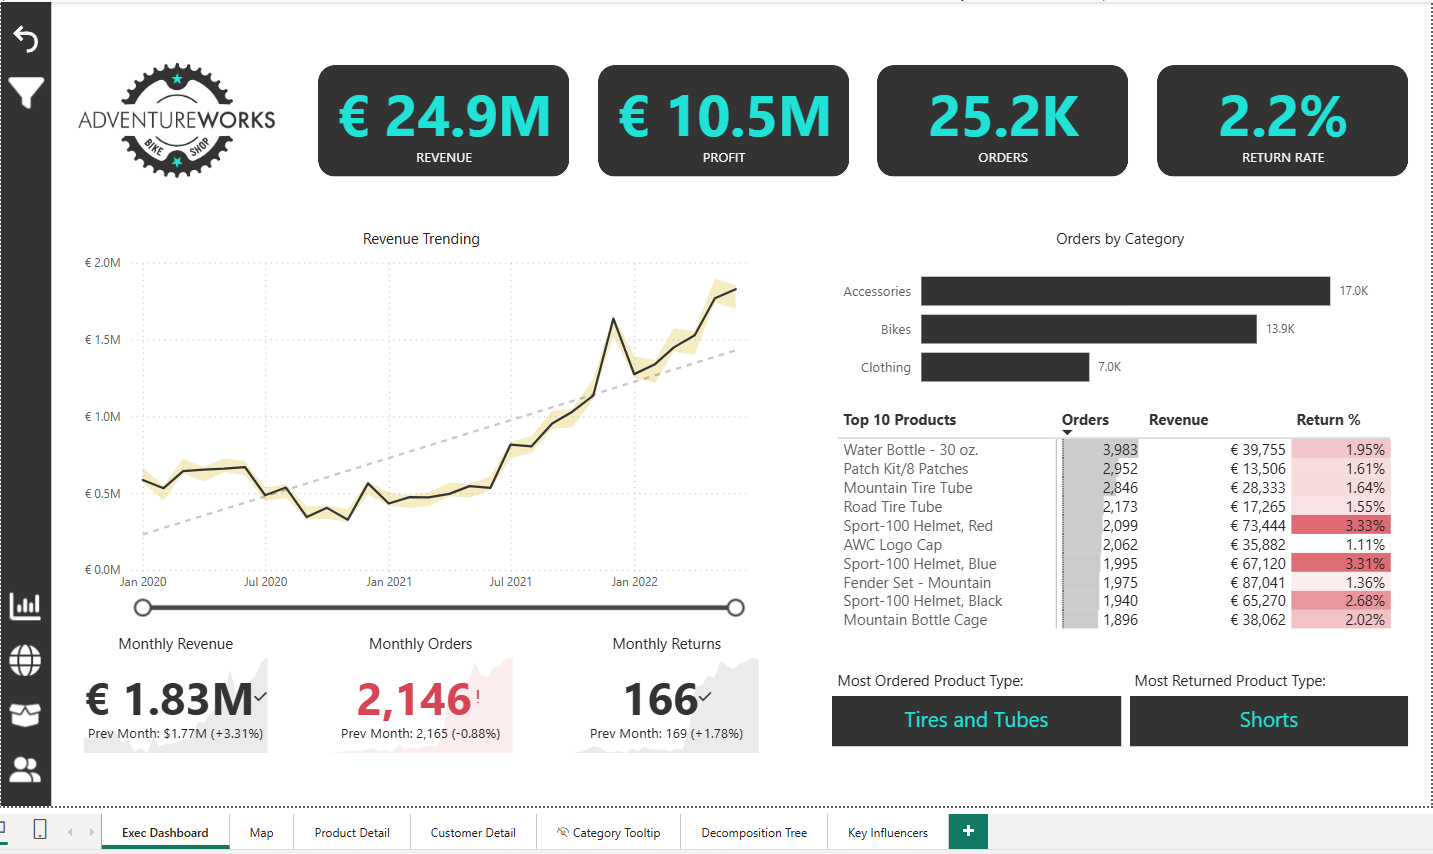

The page's visual inventory and layout, read from the dashboard file:
{"tool":"powerbi","page":{"name":"Exec Dashboard","canvas":[1280,720],"ordinal":0},"visuals":[{"type":"card","fields":{"Values":["Measure Table.Total Revenue"]},"box":[283.8,31.2,226.2,150],"z":0,"group":"g2"},{"type":"image","title":"AW Logo","box":[45,33.8,226.2,143.8],"z":0},{"type":"group","id":"g1","title":"KPI Backgorunds","box":[283.8,56.2,976.2,100],"z":0,"group":"g3"},{"type":"shape","box":[283.8,56.2,225,100],"z":0,"group":"g1"},{"type":"actionButton","box":[3.8,521.2,36.2,40],"z":0,"group":"g4"},{"type":"shape","title":"Left Nav Background","box":[0,0,45,720],"z":1000},{"type":"group","id":"g2","title":"KPI Values","box":[283.8,31.2,977.5,150],"z":1000,"group":"g3"},{"type":"card","fields":{"Values":["Measure Table.Return Rate"]},"box":[1035,31.2,226.2,150],"z":1000,"group":"g2"},{"type":"shape","box":[1035,56.2,225,100],"z":1000,"group":"g1"},{"type":"actionButton","box":[3.8,570,36.2,40],"z":1000,"group":"g4"},{"type":"group","id":"g3","title":"KPIs","box":[283.8,31.2,977.5,150],"z":2000},{"type":"card","fields":{"Values":["Measure Table.Total Order"]},"box":[784.6,31.2,226.2,150],"z":2000,"group":"g2"},{"type":"shape","box":[534.2,56.2,225,100],"z":2000,"group":"g1"},{"type":"actionButton","box":[3.8,618.7,36.2,40],"z":2000,"group":"g4"},{"type":"card","fields":{"Values":["Measure Table.Total Profit"]},"box":[534.2,31.2,226.2,150],"z":3000,"group":"g2"},{"type":"shape","box":[784.6,56.2,225,100],"z":3000,"group":"g1"},{"type":"lineChart","title":"Revenue Trending","fields":{"Y":["Measure Table.Total Revenue"],"Category":["Calendar Lookup.Start of Month.Variation.Date Hierarchy.Year"]},"box":[68.8,202.5,615,351.2],"z":3000},{"type":"actionButton","box":[3.8,667.4,36.2,40],"z":3000,"group":"g4"},{"type":"kpi","title":"Monthly Revenue","fields":{"Indicator":["Measure Table.Total Revenue"],"TrendLine":["Calendar Lookup.Start of Month"],"Goal":["Measure Table.Previous Month Revenue"]},"box":[68.8,565,175,112.5],"z":4000},{"type":"kpi","title":"Monthly Returns","fields":{"Indicator":["Measure Table.Total Returns"],"TrendLine":["Calendar Lookup.Start of Month"],"Goal":["Measure Table.Previous Month Returns"]},"box":[508.8,565,175,112.5],"z":5000},{"type":"kpi","title":"Monthly Orders","fields":{"TrendLine":["Calendar Lookup.Start of Month"],"Indicator":["Measure Table.Total Order"],"Goal":["Measure Table.Previous Month Order"]},"box":[288.8,565,175,112.5],"z":6000},{"type":"clusteredBarChart","title":"Orders by Category","fields":{"Category":["Product Categories Lookup.CategoryName"],"Y":["Measure Table.Total Orders"]},"box":[743.8,202.5,516.2,157.5],"z":7000},{"type":"pivotTable","fields":{"Rows":["Product Lookup.ProductName"],"Values":["Measure Table.Total Orders","Measure Table.Total Revenue","Measure Table.Return Rate"]},"box":[743.8,360,516.2,210],"z":8000},{"type":"card","fields":{"Values":["Min(Product Subcategories Lookup.SubcategoryName)"]},"box":[743.8,621.2,258.8,45],"z":9000},{"type":"textbox","box":[743.8,593.8,182.5,32.5],"z":10000},{"type":"card","fields":{"Values":["Min(Product Subcategories Lookup.SubcategoryName)"]},"box":[1011.2,621.2,248.8,45],"z":11000},{"type":"textbox","box":[1010,593.8,190,32.5],"z":12000},{"type":"actionButton","box":[5,16.2,35,33.8],"z":13000},{"type":"group","id":"g4","title":"Navigation Buttoms","box":[3.8,521.2,36.2,186.2],"z":14000},{"type":"actionButton","box":[2.5,56.2,40,50],"z":15000}]}

Visuals, with their boxes on the page's 1280x720 design canvas (x1, y1, x2, y2). These are canvas units, not pixel positions in the 1433x854 screenshot, which may show the page scaled, cropped or inside an application window:
card - Measure Table.Total Revenue: rect(284, 31, 510, 181)
"AW Logo" image: rect(45, 34, 271, 178)
"KPI Backgorunds" group: rect(284, 56, 1260, 156)
shape: rect(284, 56, 509, 156)
actionButton: rect(4, 521, 40, 561)
"Left Nav Background" shape: rect(0, 0, 45, 720)
"KPI Values" group: rect(284, 31, 1261, 181)
card - Measure Table.Return Rate: rect(1035, 31, 1261, 181)
shape: rect(1035, 56, 1260, 156)
actionButton: rect(4, 570, 40, 610)
"KPIs" group: rect(284, 31, 1261, 181)
card - Measure Table.Total Order: rect(785, 31, 1011, 181)
shape: rect(534, 56, 759, 156)
actionButton: rect(4, 619, 40, 659)
card - Measure Table.Total Profit: rect(534, 31, 760, 181)
shape: rect(785, 56, 1010, 156)
"Revenue Trending" lineChart: rect(69, 202, 684, 554)
actionButton: rect(4, 667, 40, 707)
"Monthly Revenue" kpi: rect(69, 565, 244, 678)
"Monthly Returns" kpi: rect(509, 565, 684, 678)
"Monthly Orders" kpi: rect(289, 565, 464, 678)
"Orders by Category" clusteredBarChart: rect(744, 202, 1260, 360)
pivotTable - Product Lookup.ProductName x Measure Table.Total Orders: rect(744, 360, 1260, 570)
card - Min(Product Subcategories Lookup.SubcategoryName): rect(744, 621, 1003, 666)
textbox: rect(744, 594, 926, 626)
card - Min(Product Subcategories Lookup.SubcategoryName): rect(1011, 621, 1260, 666)
textbox: rect(1010, 594, 1200, 626)
actionButton: rect(5, 16, 40, 50)
"Navigation Buttoms" group: rect(4, 521, 40, 707)
actionButton: rect(2, 56, 42, 106)
